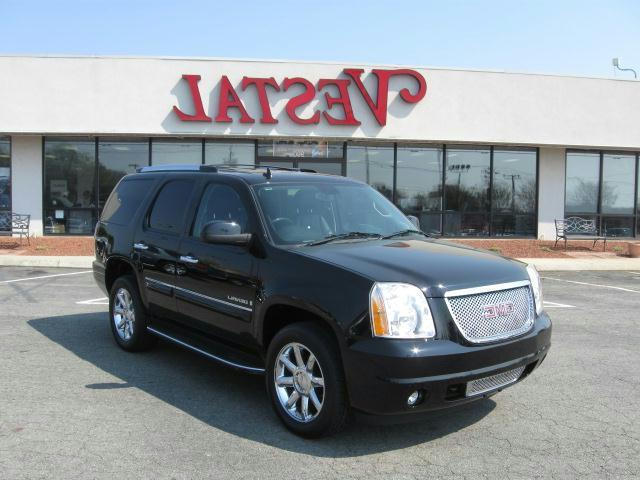Car: (65, 151, 566, 457)
